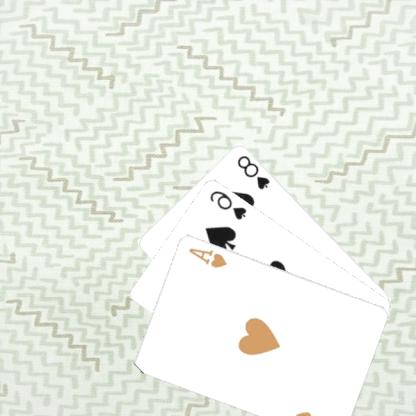6S: (208, 187, 250, 221)
8S: (236, 152, 273, 190)
AH: (188, 244, 230, 269), (294, 407, 338, 416)
